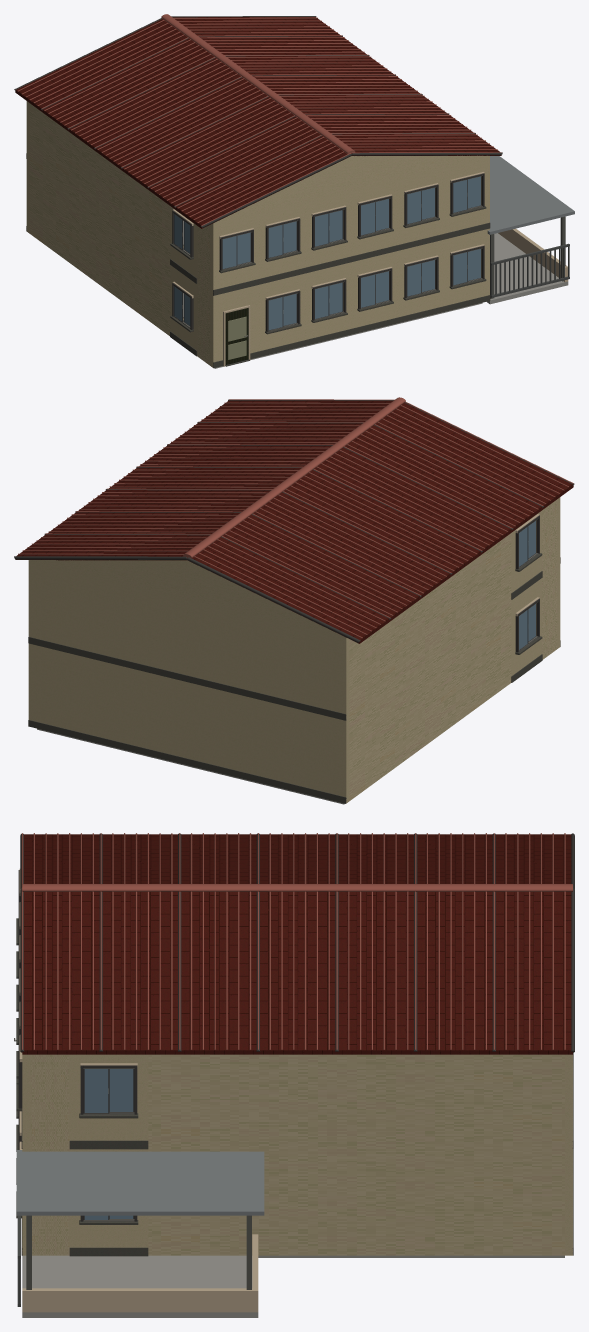
File: MS_HV_05_GatedCarportHouse.glb
3 renders of one model, top to bottom at view 1: azimuth 30°, elevation 25°; view 2: azimuth 150°, elevation 25°; view 3: azimuth 270°, elevation 25°, orthographic. The views are drawn at different scales.
Visible parts, largest first — view 1: StaticBatch33, StaticBatch24, StaticBatch2, StaticBatch6, StaticBatch42, StaticBatch25, StaticBatch12, StaticBatch7, StaticBatch3, StaticBatch14, Plaster_005, StaticBatch43 (+10 smaller); view 2: StaticBatch33, StaticBatch2, StaticBatch6, StaticBatch24, StaticBatch42, StaticBatch12, StaticBatch4, StaticBatch8, StaticBatch10; view 3: StaticBatch33, StaticBatch6, StaticBatch2, StaticBatch24, StaticBatch25, StaticBatch14, StaticBatch43, StaticBatch12, StaticBatch7, StaticBatch3, Glass_00115, Glass15 (+3 smaller).
Boxes of the visible parts, x1,y1,x2,y2 form: StaticBatch33: (15,17,501,228); StaticBatch24: (18,14,501,225); StaticBatch2: (26,159,489,365); StaticBatch6: (26,101,489,294); StaticBatch42: (214,155,487,222); StaticBatch25: (487,156,574,234); StaticBatch12: (14,16,502,227); StaticBatch7: (170,206,490,295); StaticBatch3: (170,278,490,356); StaticBatch14: (486,233,568,304); Plaster_005: (210,285,259,367); StaticBatch43: (498,228,568,281); StaticBatch33: (15,400,573,643); StaticBatch2: (28,566,557,803); StaticBatch6: (28,497,560,719); StaticBatch24: (18,397,573,638); StaticBatch42: (30,560,344,636); StaticBatch12: (14,399,574,642); StaticBatch4: (28,720,346,803); StaticBatch8: (28,637,346,720); StaticBatch10: (37,728,344,804); StaticBatch33: (22,834,572,1054); StaticBatch6: (22,1054,572,1148); StaticBatch2: (22,1149,572,1255); StaticBatch24: (21,833,572,1049); StaticBatch25: (16,1150,264,1215); StaticBatch14: (22,1255,258,1317); StaticBatch43: (22,1234,258,1312); StaticBatch12: (20,833,574,1052); StaticBatch7: (16,918,148,1149); StaticBatch3: (16,1078,148,1256); Glass_00115: (84,1069,108,1112); Glass15: (109,1069,133,1111).
Bounding box in the file's own units: 16.15 × 7.77 × 14.27.
Materials: 26 (6 with a texture image).
